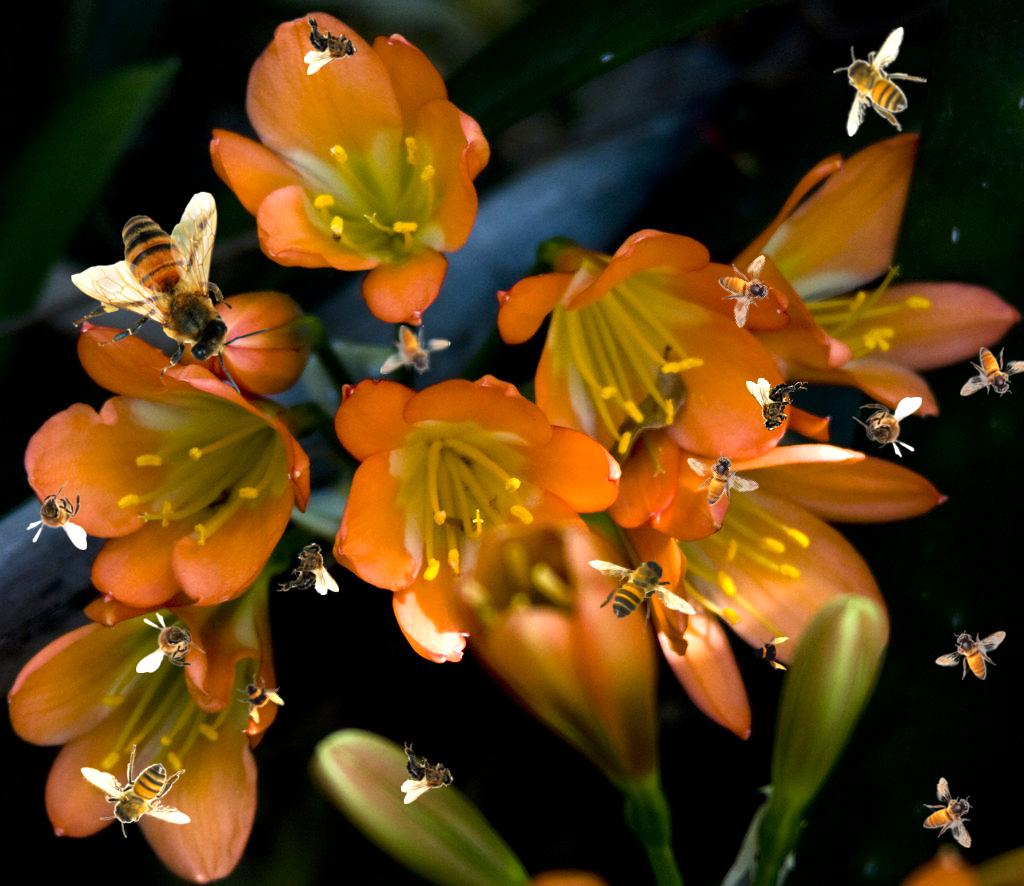Bee: (71, 191, 270, 395), (80, 744, 191, 838), (833, 26, 927, 137), (587, 545, 698, 639), (703, 243, 789, 330), (675, 435, 761, 522), (26, 480, 87, 550), (136, 612, 206, 673), (852, 397, 922, 458), (228, 665, 292, 729), (922, 776, 974, 849), (935, 630, 1006, 680), (380, 325, 451, 375), (401, 742, 454, 804), (277, 542, 339, 595), (746, 378, 808, 431), (304, 13, 357, 75), (960, 347, 1024, 397), (747, 629, 791, 673)
